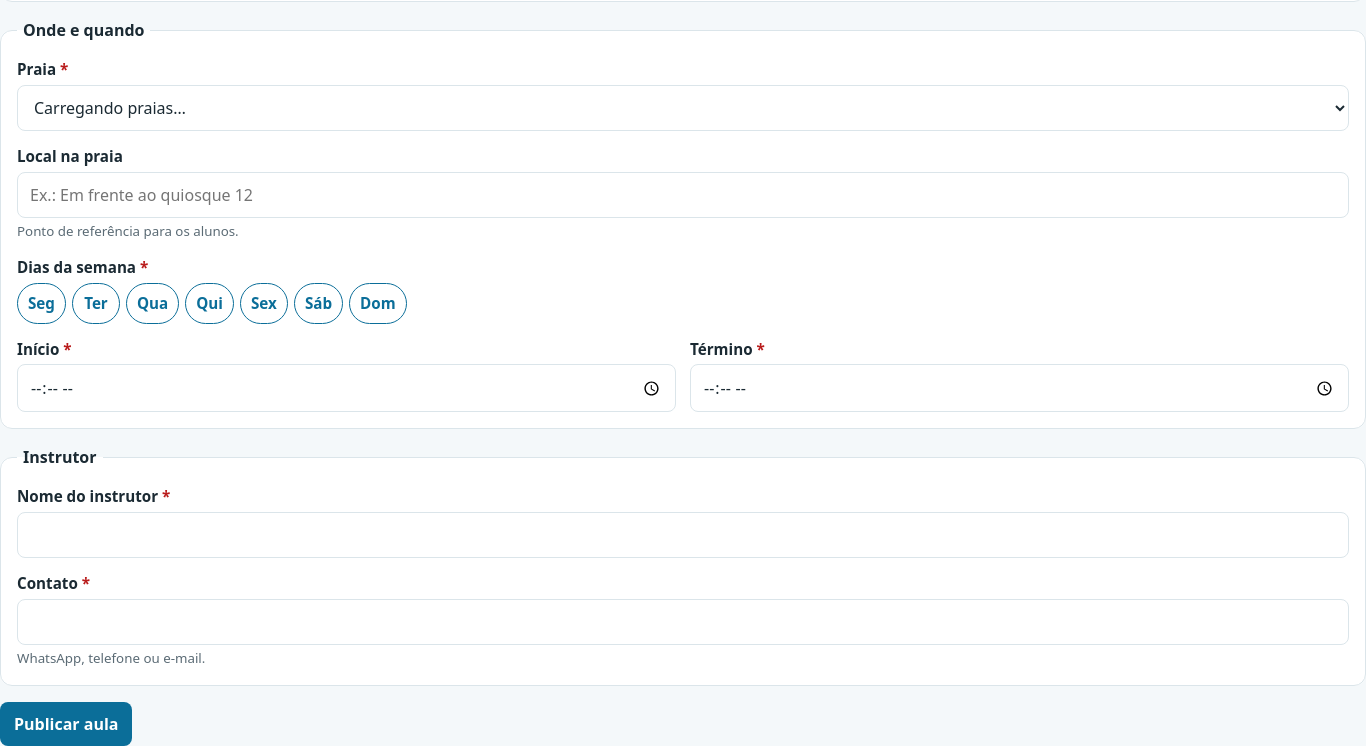
Test case: FormularioAula › não envia e destaca os campos obrigatórios vazios
(page scrolled)
Click the button "Publicar aula".
click(66, 724)  # box [0,702,132,745]
(page scrolled)
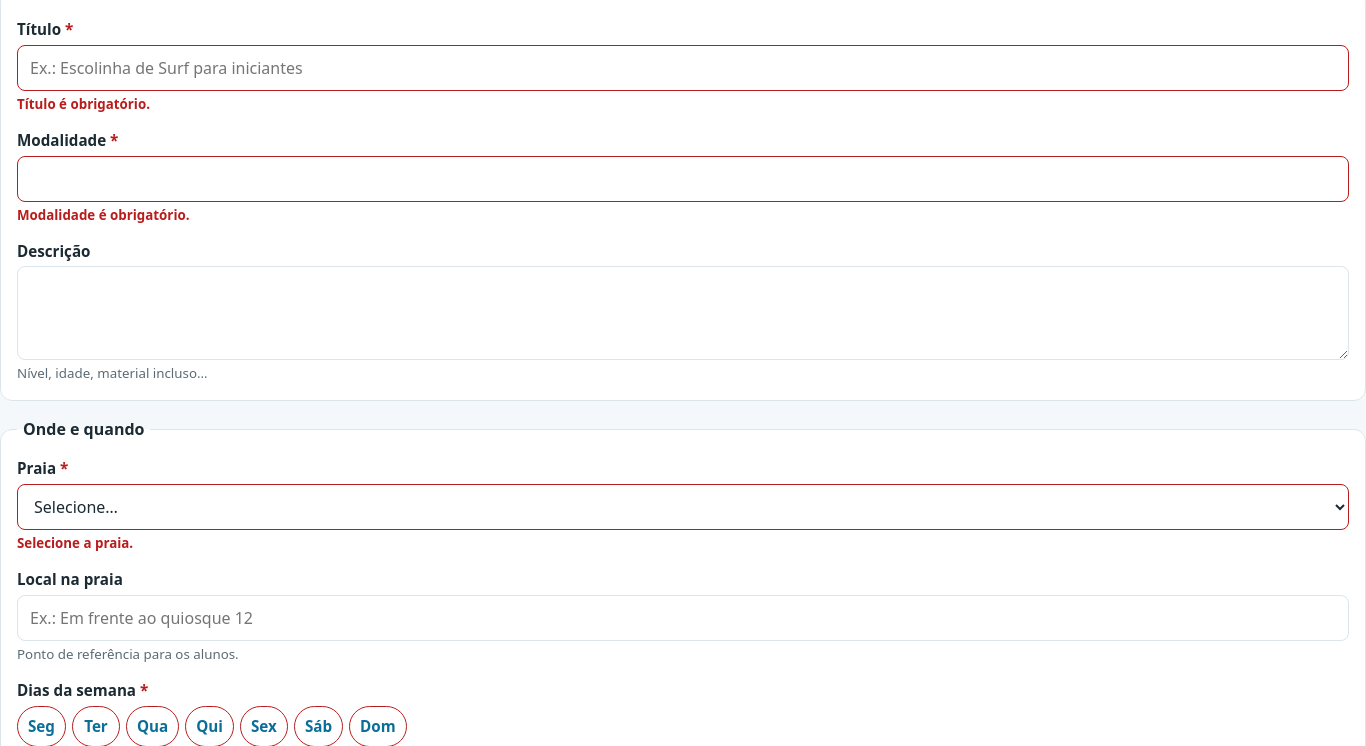
Expected: the text "Título é obrigatório." is shown, [17,95,150,113]
